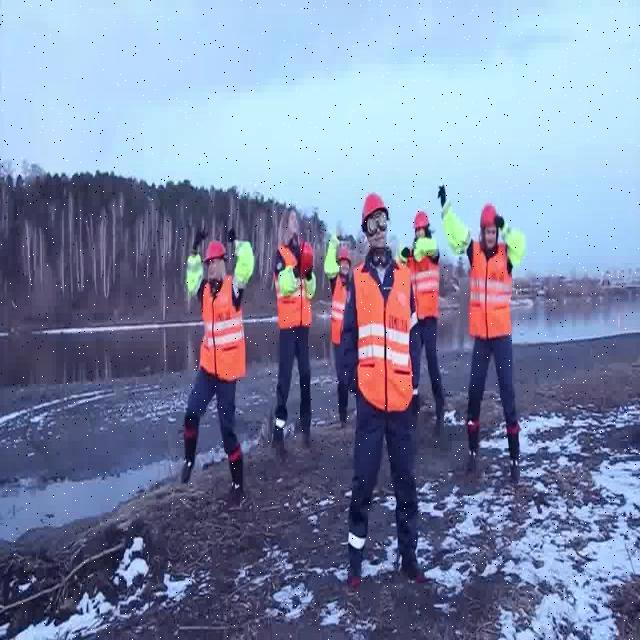Hard_hat: (359, 192, 392, 224), (473, 202, 501, 229), (412, 209, 432, 229)
Person: (323, 198, 440, 606), (171, 237, 252, 501), (453, 206, 526, 489), (268, 215, 323, 441)
Vest: (349, 260, 418, 412), (193, 251, 249, 380), (467, 240, 515, 340), (273, 267, 305, 329)
